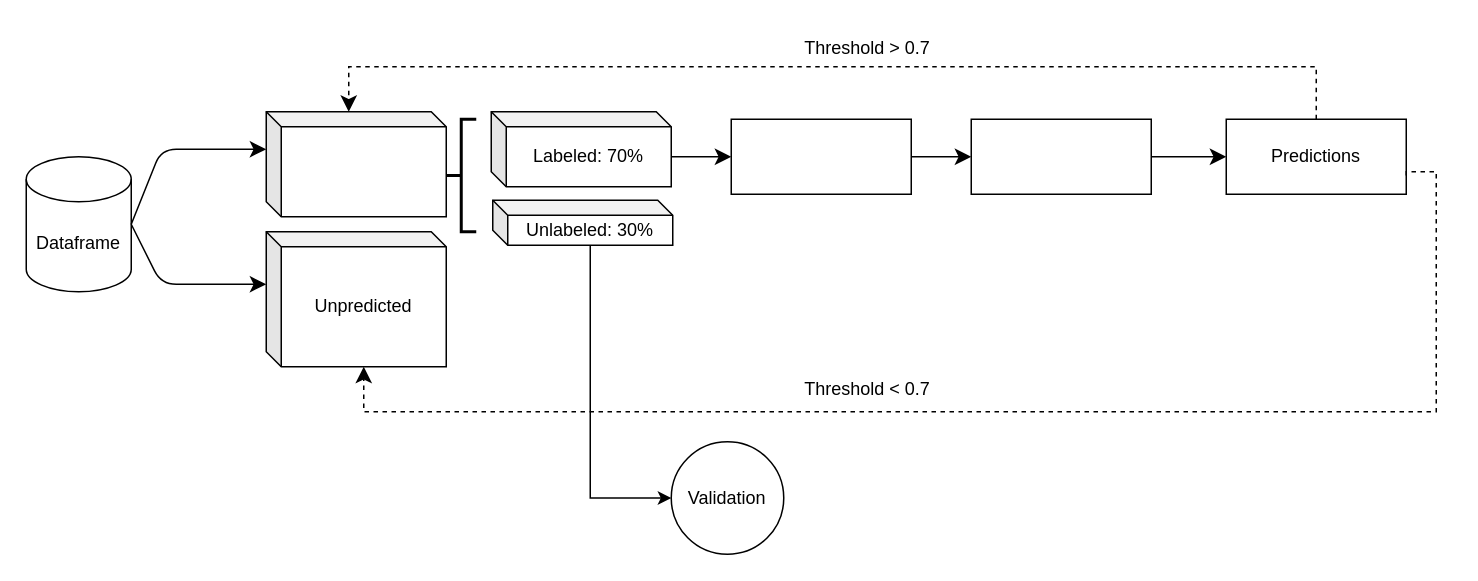
Some shapes in this 1478 by 581 pixel diagram are drawn without their labels. The shapes that lost their labels are listed below. From the top down, each one's centre as x and y in pixels, then its label:
At (355,163): "Labeled".
At (820,156): "Models".
At (1060,156): "Selection strategy".
